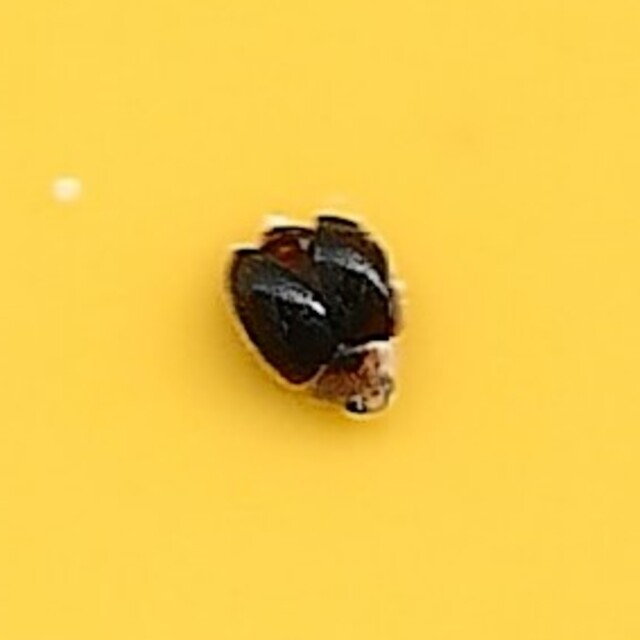Coleoptera: (226, 217, 414, 423)
